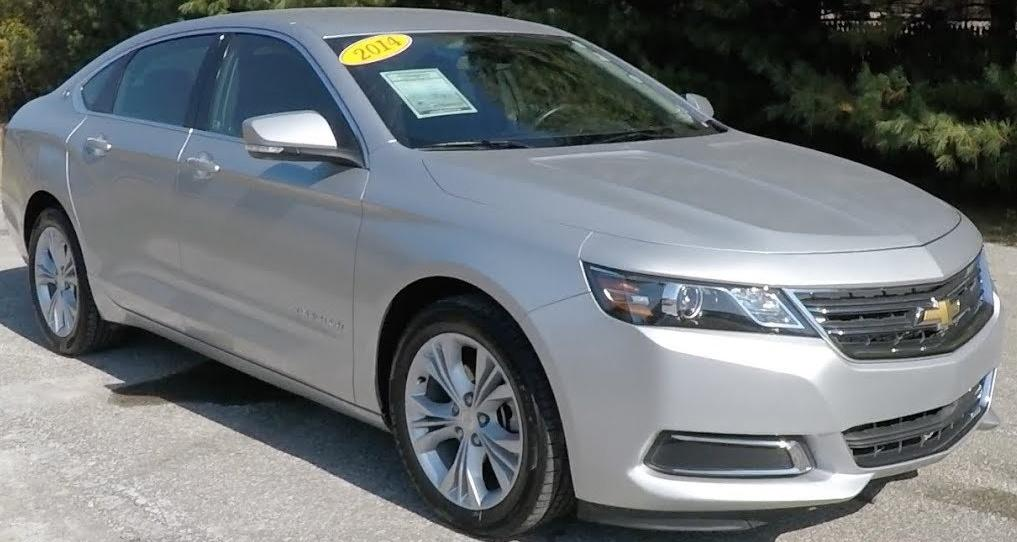Cars: (4, 10, 1003, 536)
